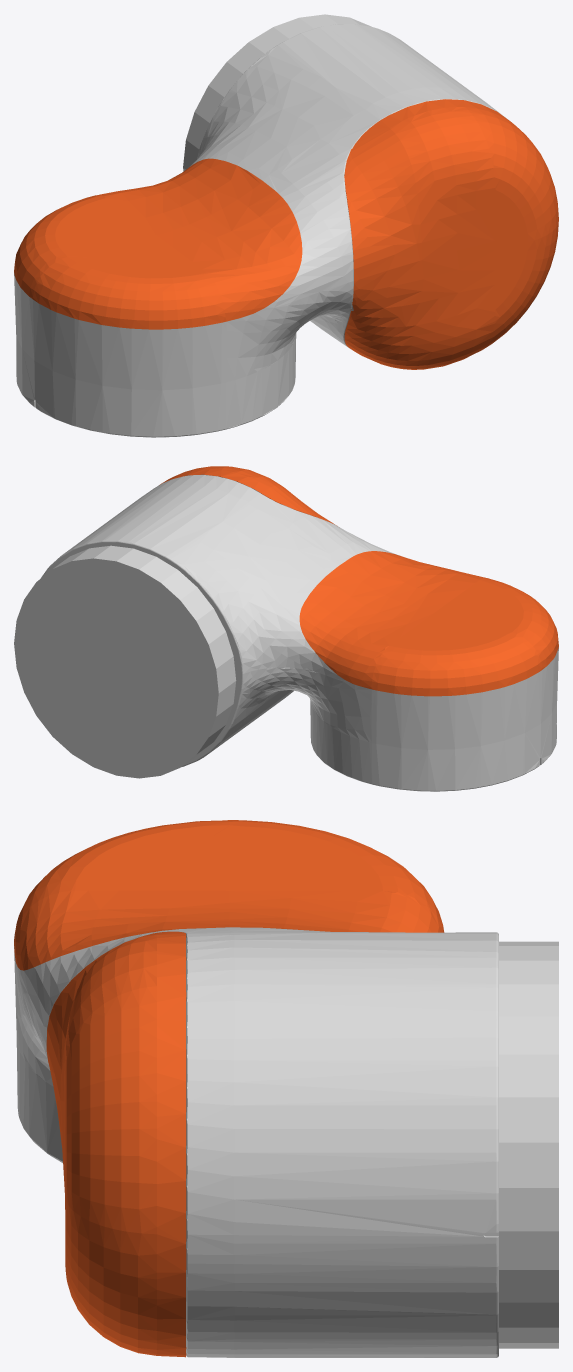
3 renders of one model, top to bottom at view 1: azimuth 30°, elevation 25°; view 2: azimuth 150°, elevation 25°; view 3: azimuth 270°, elevation 25°, orthographic. The views are drawn at different scales.
Parts seen in each view (by area): view 1: 17; view 2: 17; view 3: 17.
Boxes of the visible parts, bbox=[...] form: 17: bbox=[14, 14, 558, 437]; 17: bbox=[14, 466, 558, 791]; 17: bbox=[14, 820, 558, 1357].
Bounding box in the file's own units: 0.1696 × 0.083 × 0.1063.
